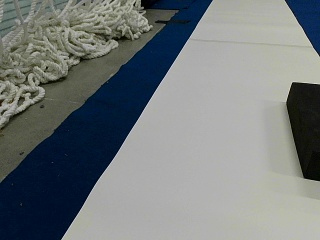block: (286, 81, 318, 181)
